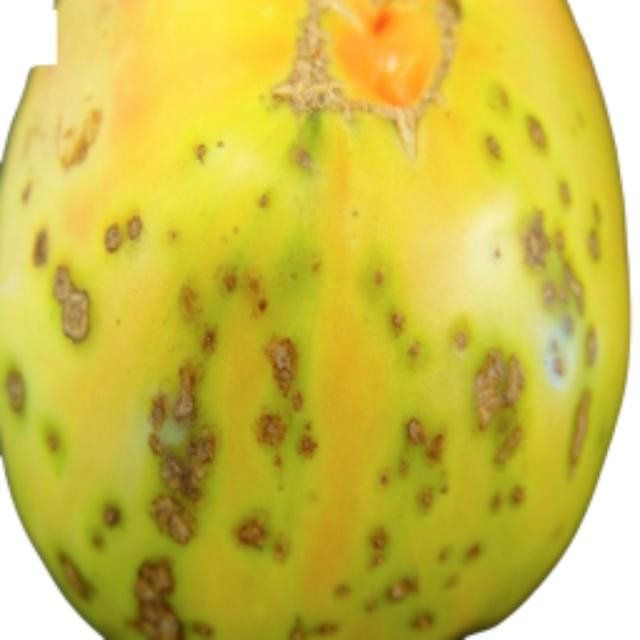defect: (4, 20, 636, 640)
